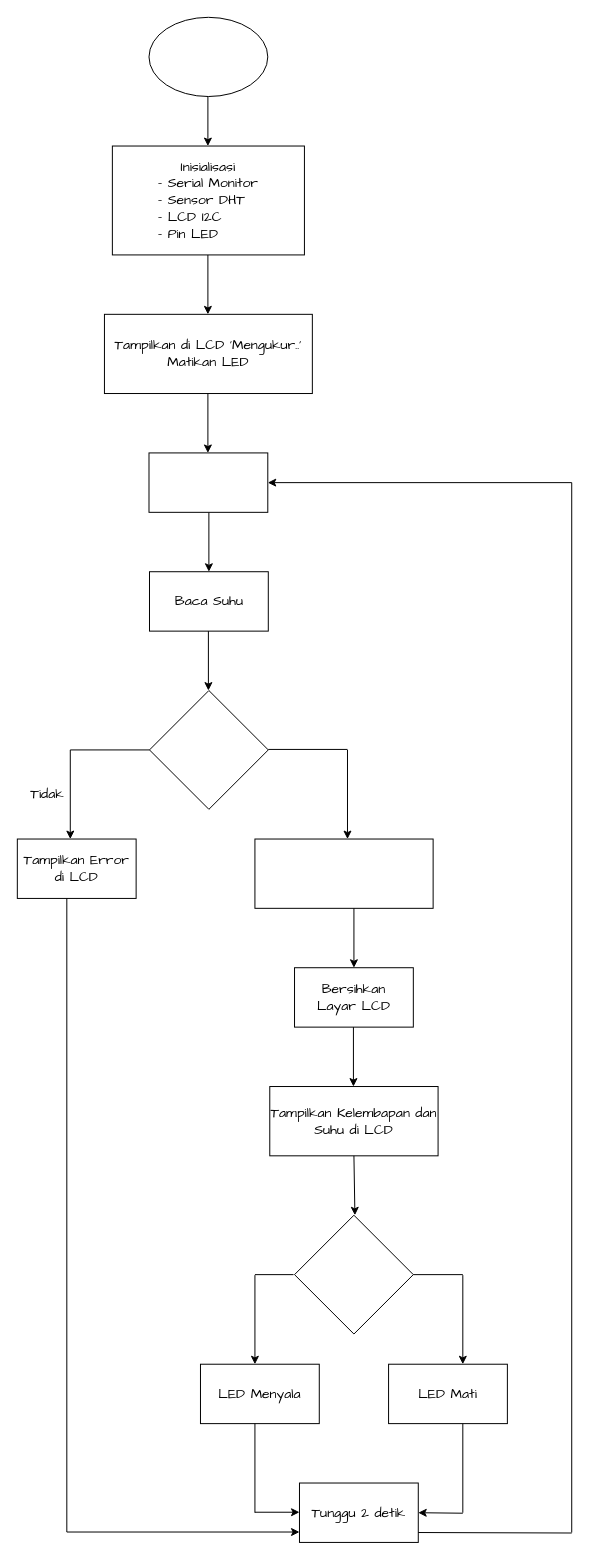
This 597x1560 diagram has some shape labels left out. Here are the shapes that lost their labels. From the top down, the box of each, then its label:
(148, 16, 268, 97): Mulai
(148, 452, 268, 512): Baca Kelembaban
(148, 690, 268, 809): Pembacaan Berhasil?
(254, 838, 433, 908): Tampilkan Kelembaban dan Suhu di Serial Monitor
(294, 1214, 413, 1334): Suhu >= 25 C
